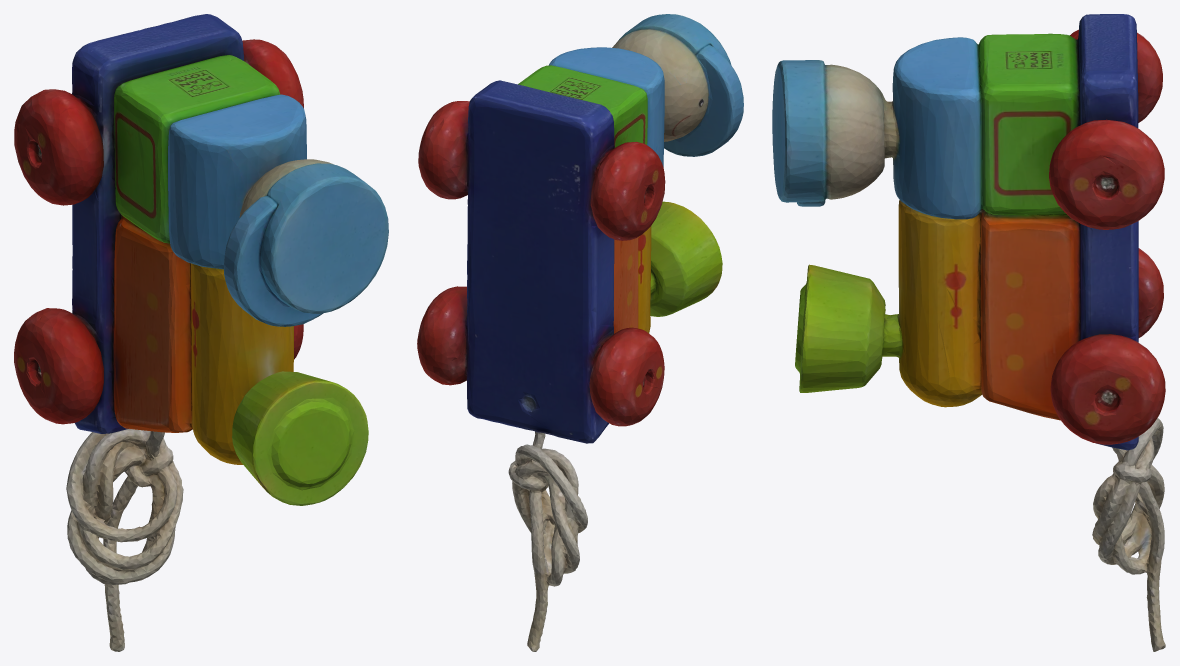
File: train.glb
3 renders of one model, left to right at view 1: azimuth 30°, elevation 25°; view 2: azimuth 150°, elevation 25°; view 3: azimuth 270°, elevation 25°, orthographic. The views are drawn at different scales.
Visible parts, largest first — view 1: geometry_0; view 2: geometry_0; view 3: geometry_0.
Boxes of the visible parts, x1,y1,x2,y2 form: geometry_0: (14,14,388,651); geometry_0: (417,14,743,651); geometry_0: (772,14,1165,651).
Bounding box in the file's own units: 0.4233 × 1 × 0.5786.
1 material, 1 textured.
